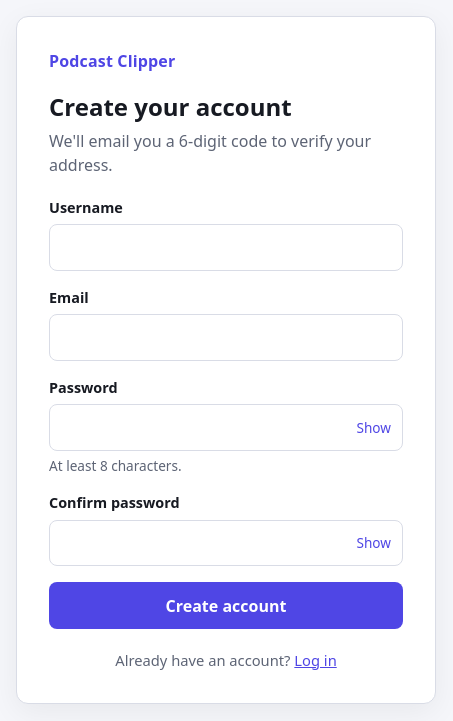
Scenario: registration › posts the exact payload the backend expects, then moves to the verify step with the email
Type "  Muneeb " into the field labelled "Username" at (226, 248), box [49,224,403,271]
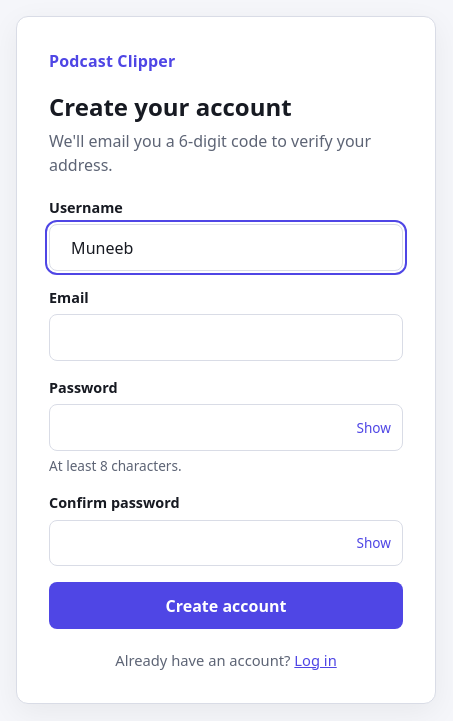
Type "  Muneeb@Example.com " into the field labelled "Email" at (226, 338), box [49,314,403,361]
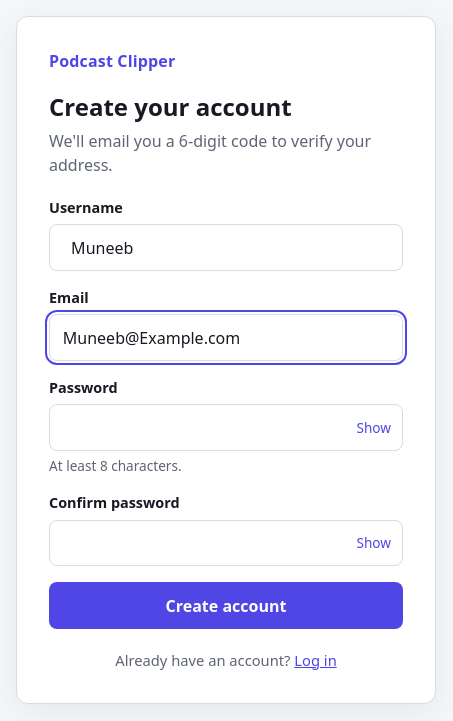
Type "Str0ngPass!" into the password field labelled "Password" at (226, 428), box [49,404,403,451]
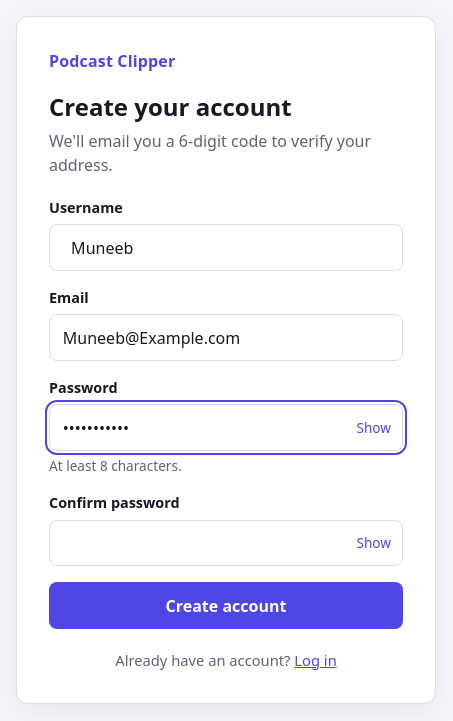
Type "Str0ngPass!" into the password field labelled "Confirm password" at (226, 543), box [49,520,403,566]
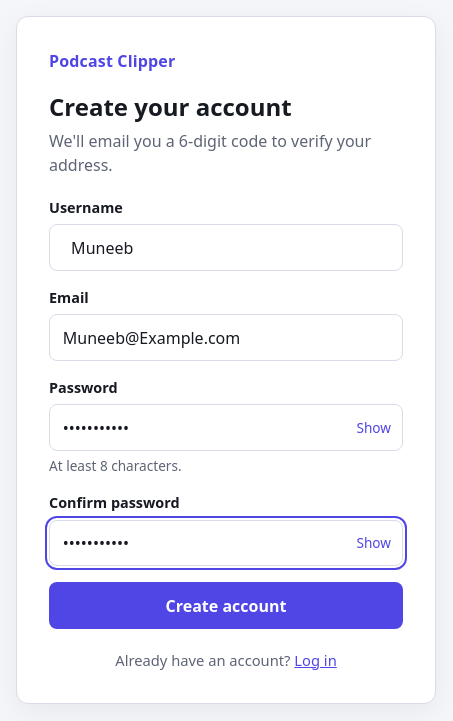
Click the button "Create account" at (226, 606), box [49,582,403,629]
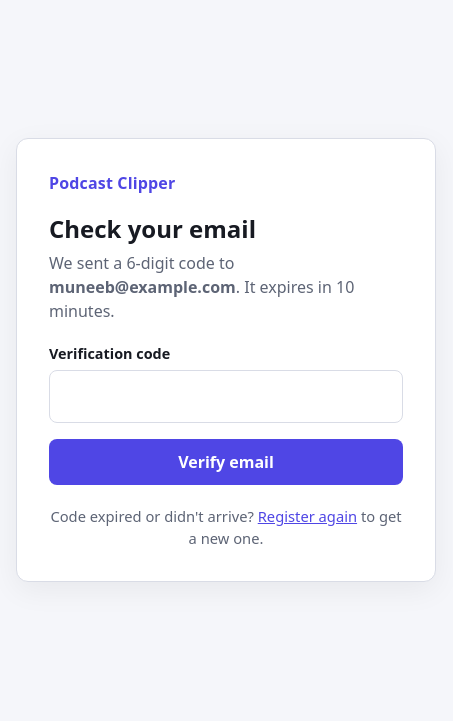
Now the heading "Check your email" is shown, box [49,212,256,245]
Now the text "muneeb@example.com" is shown, box [49,276,236,298]
